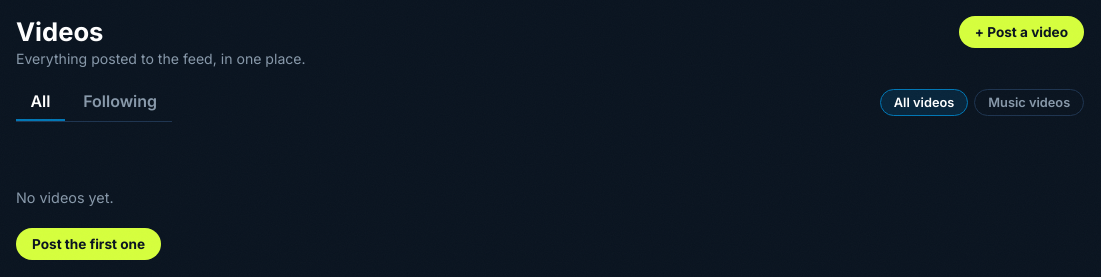
it: Videos page › Following loads the people you follow when signed in
This screenshot has width=1101, height=277.
Expected: the text "No videos yet." is shown, [16,189,114,206]
Step 1. Click the tab "Following" → (120, 102), box [69,83,172,121]
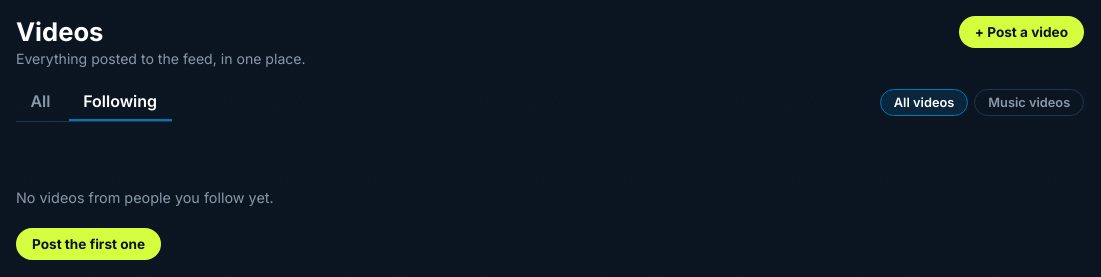
Expected: the text "No videos from people you follow yet." is shown, [16,189,274,206]
